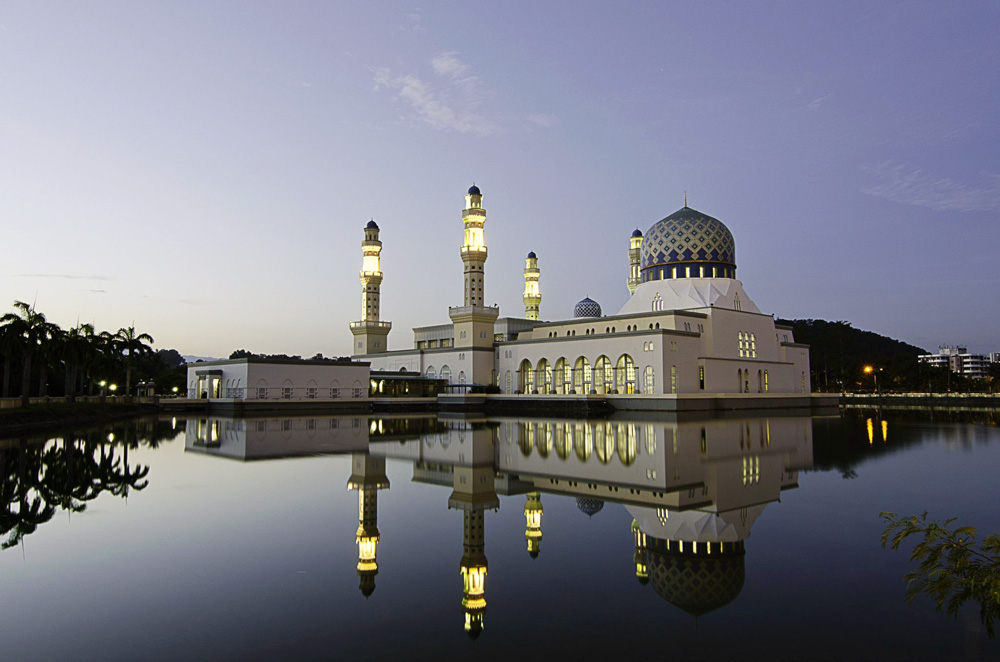Mosque: (192, 205, 819, 420)
